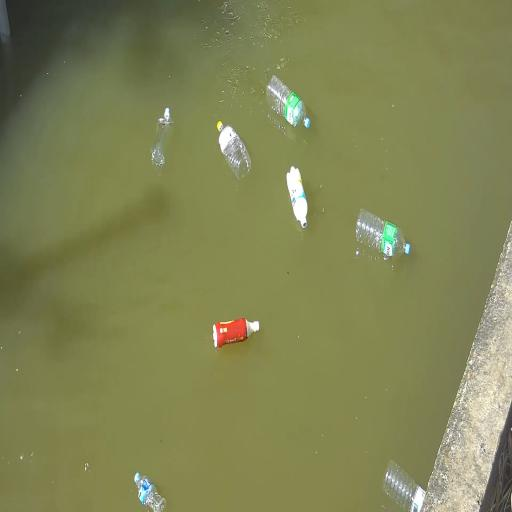plastic: (356, 210, 410, 258), (266, 75, 310, 127), (383, 461, 425, 511), (217, 121, 251, 182), (213, 319, 259, 348), (287, 166, 307, 228), (152, 108, 173, 167), (135, 473, 166, 511)
